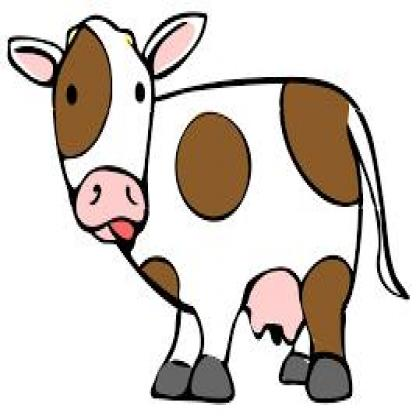cow: (8, 6, 410, 402)
